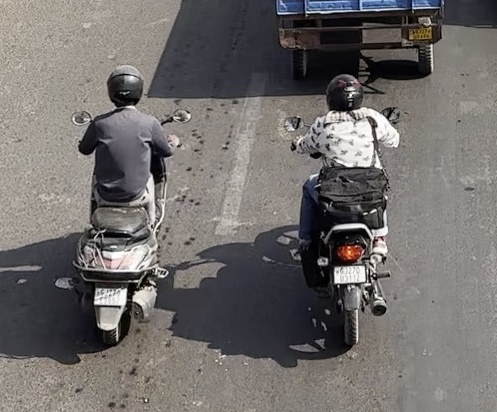BikeWithRider: (63, 61, 205, 353), (276, 67, 413, 359)
Helmet: (319, 67, 368, 118), (103, 64, 147, 113)
